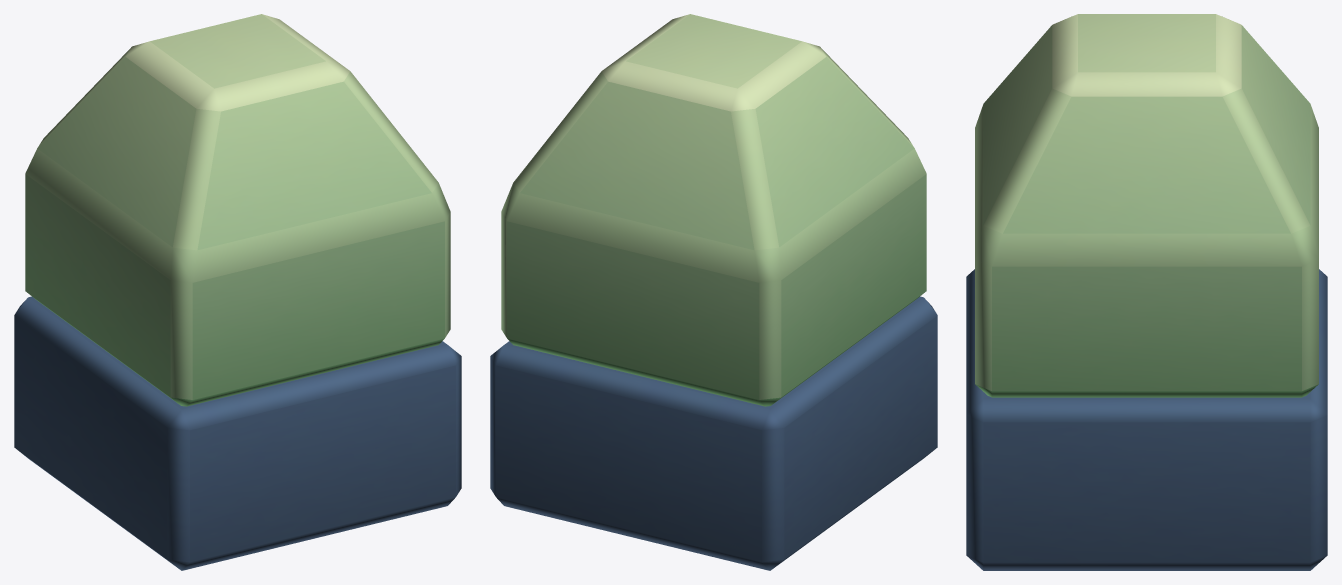
The model's file is block_small.fbx.
The picture shows the model from 3 angles, left to right: view 1: azimuth 30°, elevation 25°; view 2: azimuth 150°, elevation 25°; view 3: azimuth 270°, elevation 25°; orthographic projection. The views are drawn at different scales.
Parts seen in each view (by area): view 1: block_small; view 2: block_small; view 3: block_small.
Boxes of the visible parts, bbox=[...] form: block_small: bbox=[14, 14, 461, 570]; block_small: bbox=[490, 14, 937, 570]; block_small: bbox=[966, 14, 1327, 570].
Size of the model in its own units: 105 by 147 by 105.
